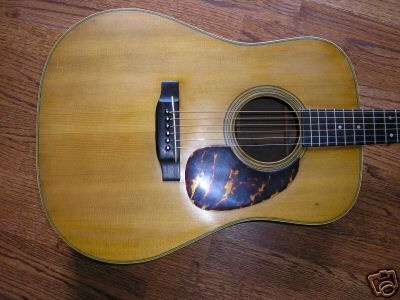guitar: (34, 6, 400, 269)
